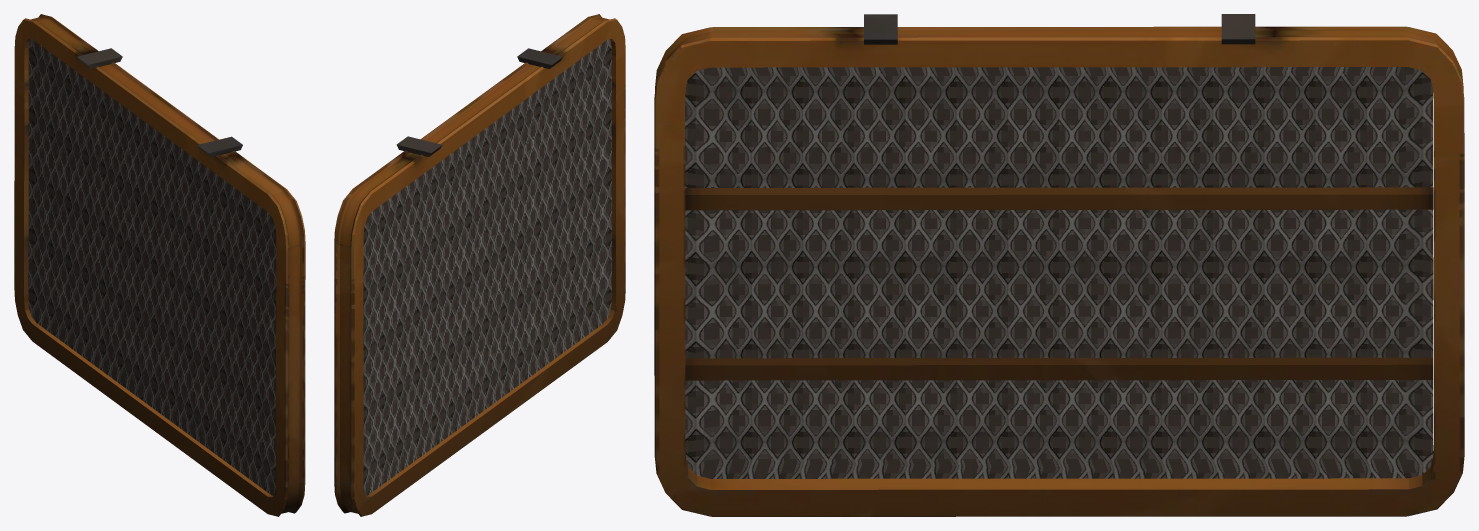
3 views of the same model, side by side, from view 1: azimuth 30°, elevation 25°; view 2: azimuth 150°, elevation 25°; view 3: azimuth 270°, elevation 25° (orthographic). The views are drawn at different scales.
Visible parts, largest first — view 1: body0_model0_lod0_mesh0, body0_model0_lod0_mesh1; view 2: body0_model0_lod0_mesh0, body0_model0_lod0_mesh1; view 3: body0_model0_lod0_mesh0, body0_model0_lod0_mesh1.
Boxes of the visible parts, x1,y1,x2,y2 form: body0_model0_lod0_mesh0: (28, 39, 276, 495); body0_model0_lod0_mesh1: (14, 14, 305, 516); body0_model0_lod0_mesh0: (363, 39, 611, 495); body0_model0_lod0_mesh1: (334, 14, 625, 516); body0_model0_lod0_mesh0: (685, 67, 1433, 478); body0_model0_lod0_mesh1: (654, 14, 1464, 516).
Bounding box in the file's own units: 9.05 × 80.92 × 123.
2 materials, 2 textured.
